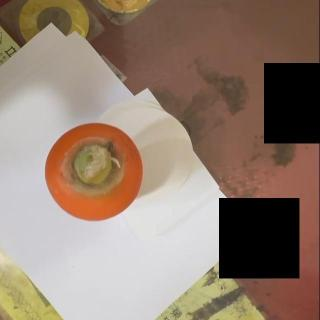carrot: (44, 123, 144, 223)
